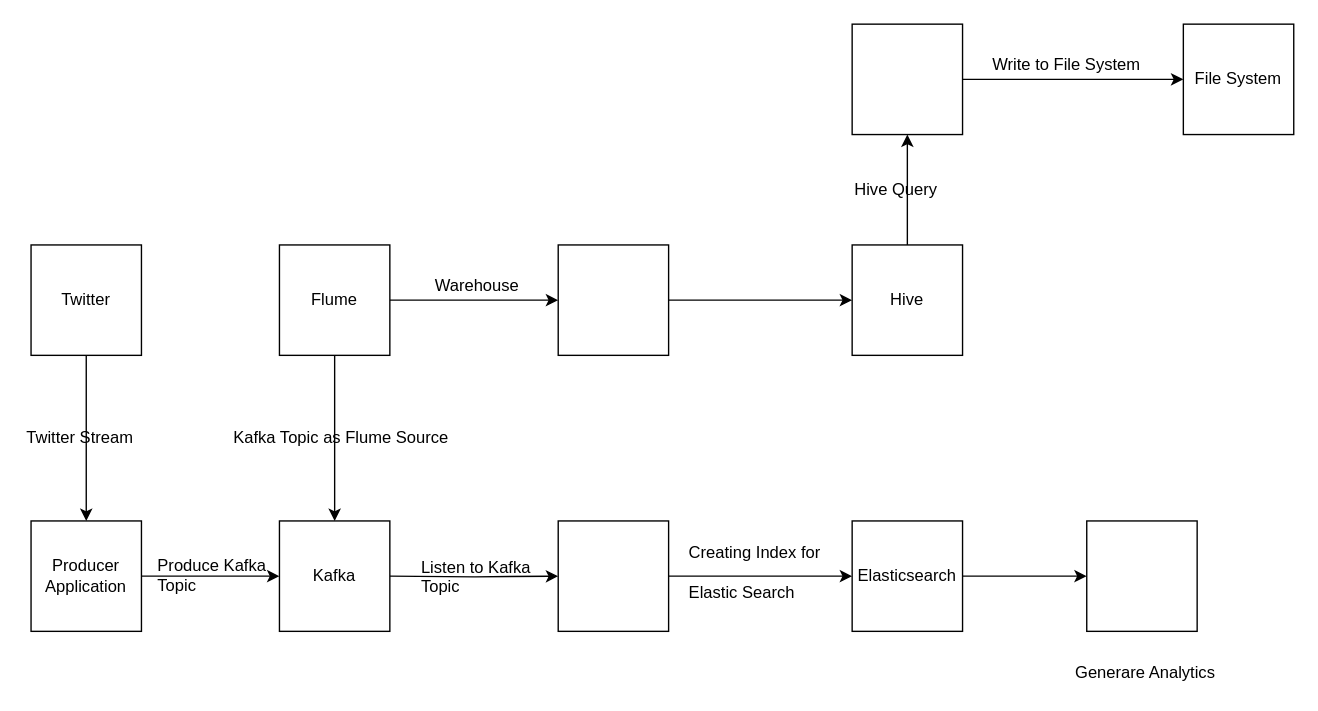
Image size: 1318x711. Some labels were removed from this diagram. The box of each missing label's shape, as (x1, y1, x2, y2) in pixels:
Apache Spark: (851, 23, 963, 135)
Consumer And Spark Stream Processing: (557, 520, 669, 631)
HDFS: (557, 244, 669, 355)
Kibana: (1085, 520, 1197, 631)
